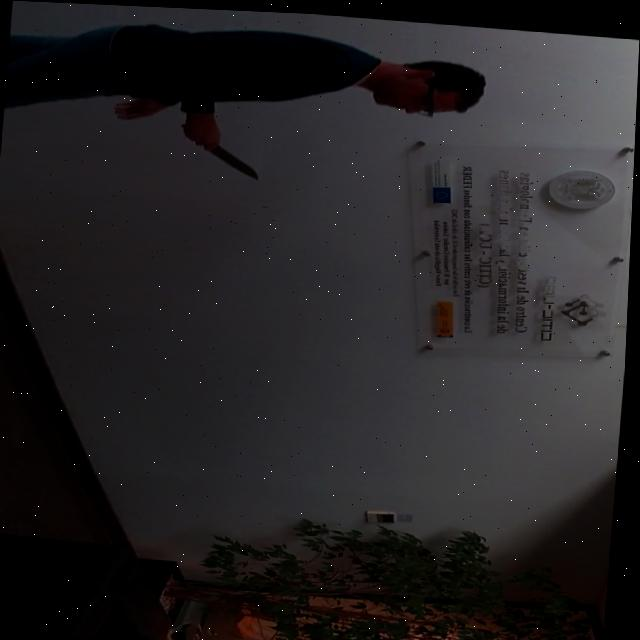knife: (199, 139, 268, 183)
